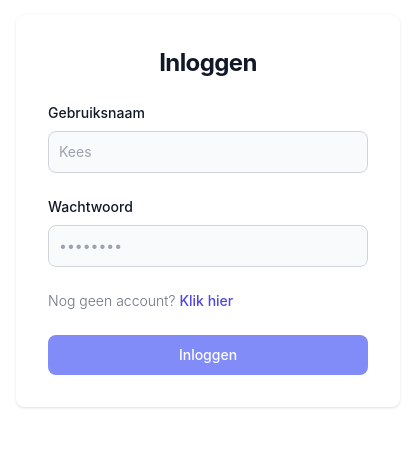
Test: Test login page › Inloggen zonder gebruiksnaam
The width and height of the screenshot is (417, 462).
Click the button "Inloggen" at (208, 355), box [48,335,368,375]
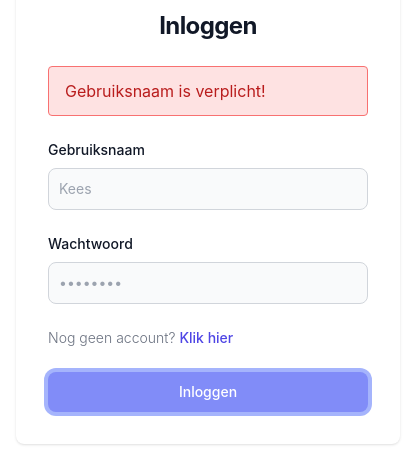
Result: the text "Gebruiksnaam is verplicht!" is shown at [65,81,266,101]
